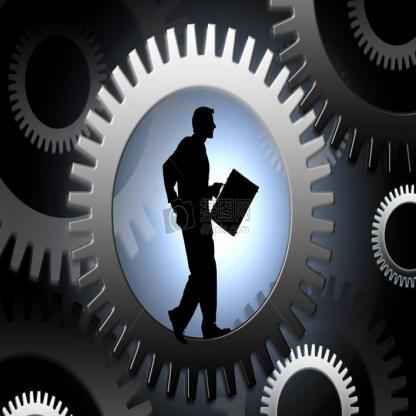FOD: (65, 19, 339, 406), (370, 181, 416, 292)
